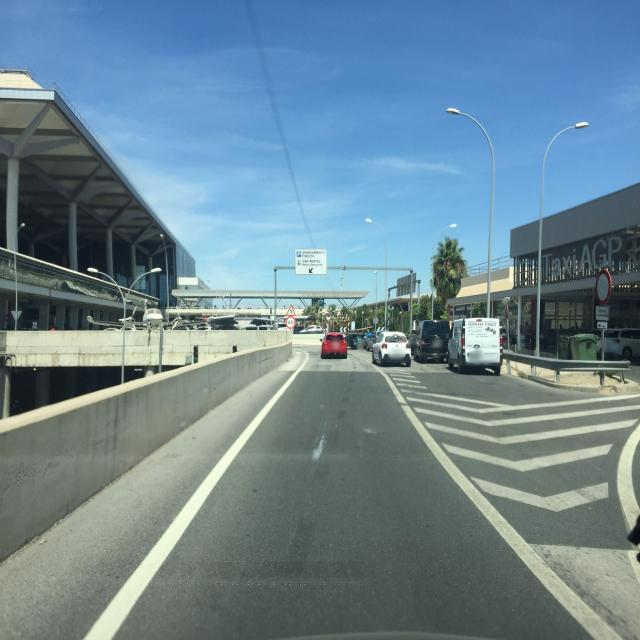car: (447, 317, 502, 375), (411, 319, 451, 363), (597, 326, 640, 364), (371, 331, 412, 367), (563, 333, 601, 359), (320, 332, 348, 358), (364, 331, 379, 352), (345, 333, 359, 349)
